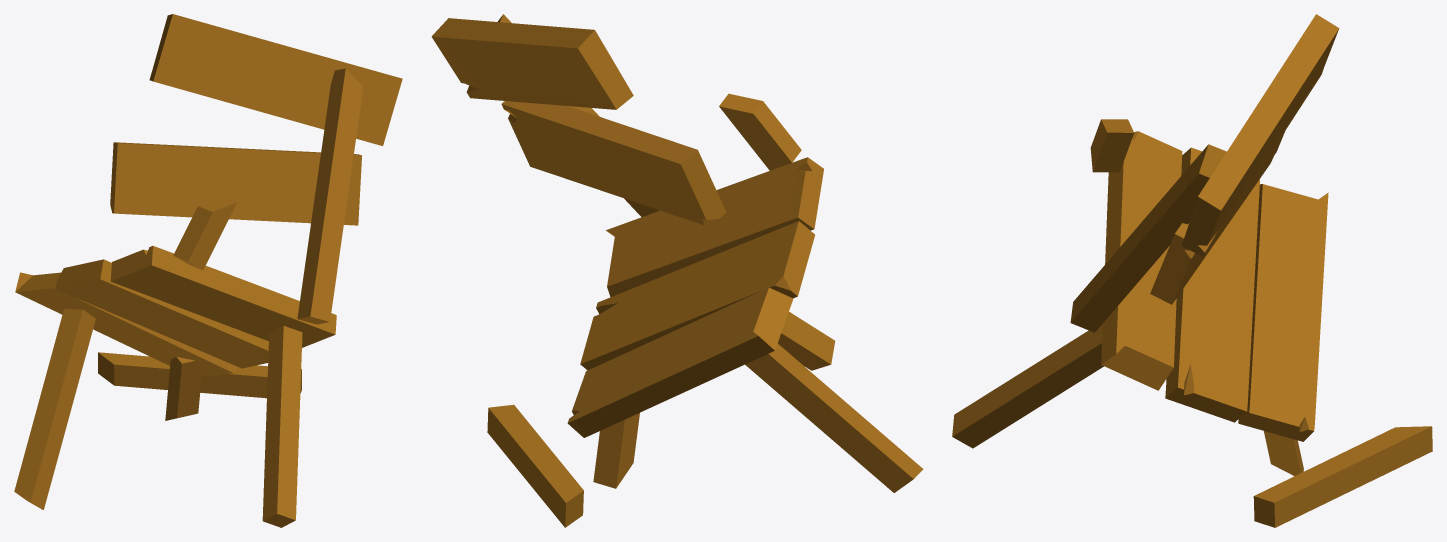
The model's file is cadeira_quebrada_2.fbx.
3 renders of one model, left to right at view 1: azimuth 30°, elevation 25°; view 2: azimuth 150°, elevation 25°; view 3: azimuth 270°, elevation 25°, orthographic. The views are drawn at different scales.
Parts seen in each view (by area): view 1: cadeira_quebrada_2; view 2: cadeira_quebrada_2; view 3: cadeira_quebrada_2.
Part boxes in pixels (box(x1,y1,x2,y2)): cadeira_quebrada_2: box(14, 14, 402, 527); cadeira_quebrada_2: box(431, 14, 923, 527); cadeira_quebrada_2: box(952, 14, 1432, 527).
Size of the model in its own units: 109 by 104 by 97.76.
